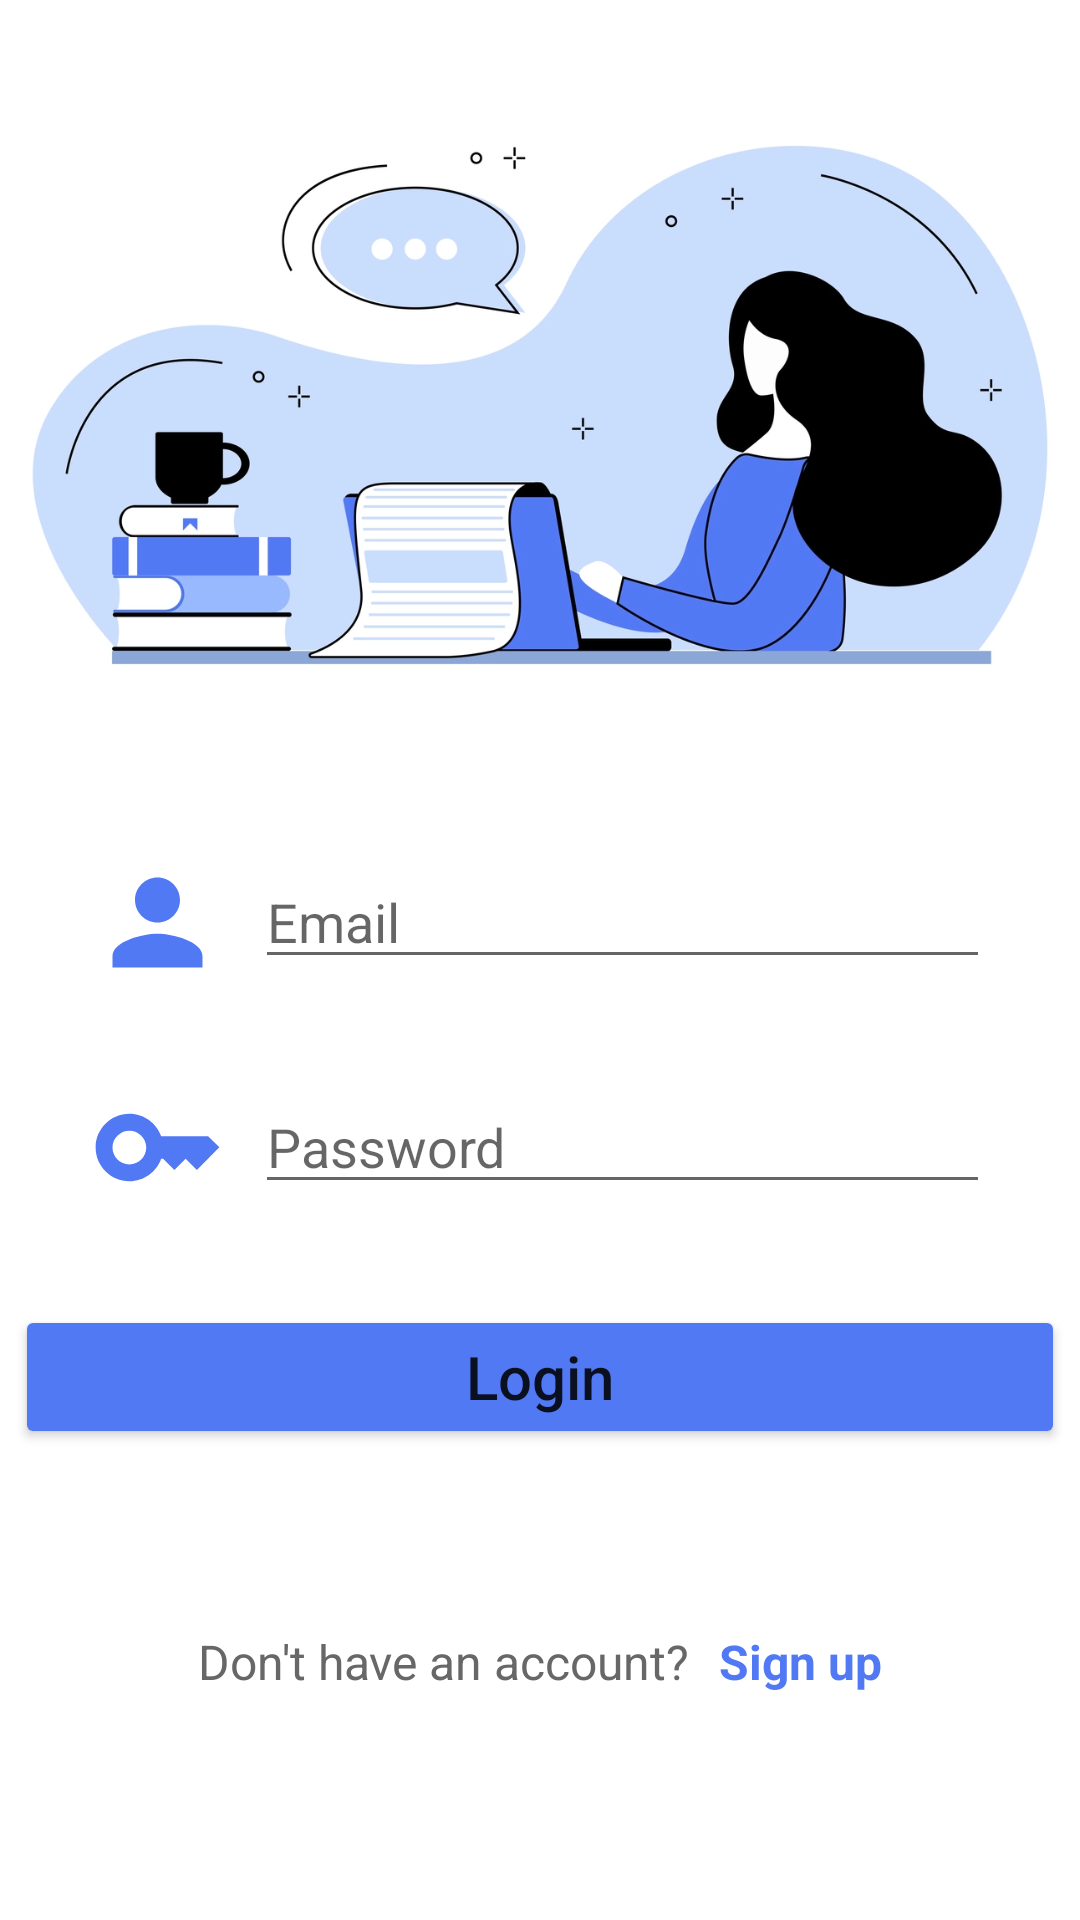

Where icons sit on this 1080*1920 app screen, as (x1, y1, x2, y2):
key: (95, 1113, 219, 1182)
person: (112, 877, 203, 968)
